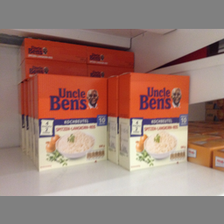rice: (117, 72, 192, 170), (32, 73, 107, 169)
